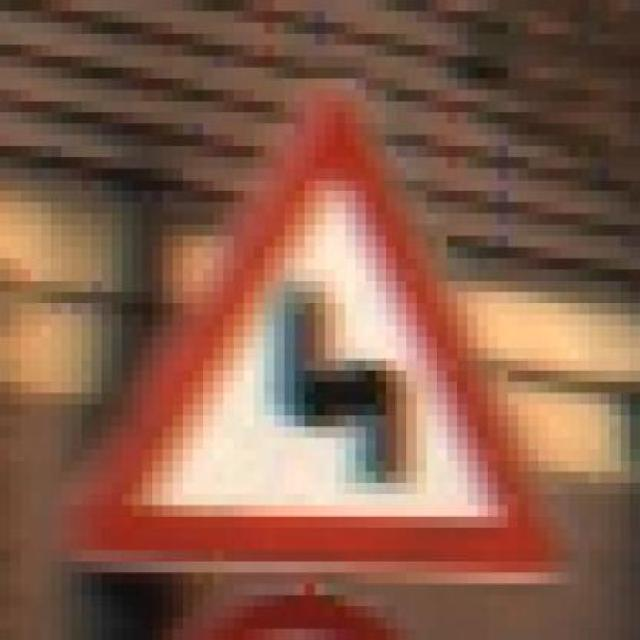Left Zig Zag Traffic: (71, 55, 558, 596)
